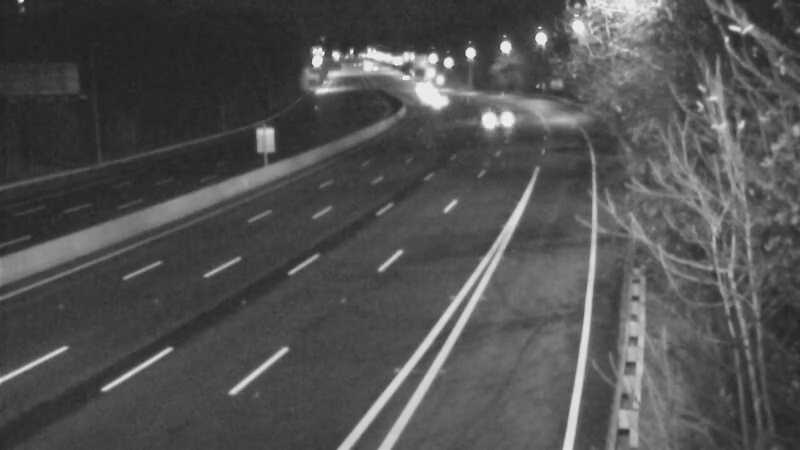vehicle: (393, 63, 443, 113), (394, 69, 444, 119), (411, 75, 461, 125), (468, 94, 518, 144)
